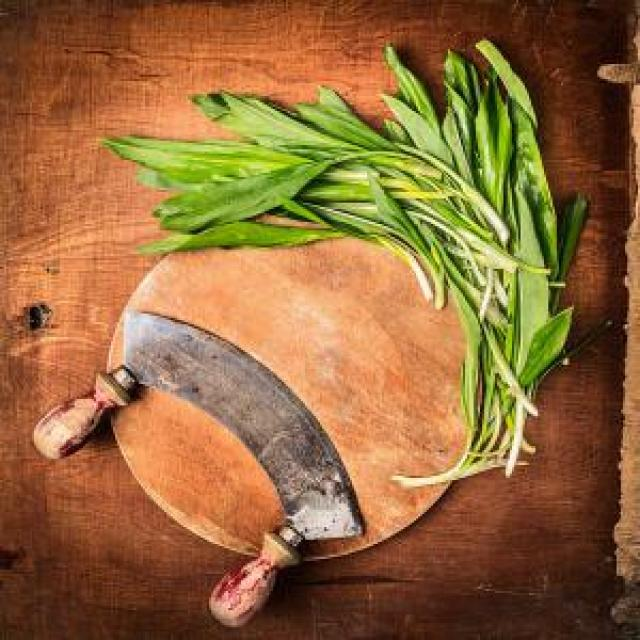knife: (36, 307, 374, 638)
